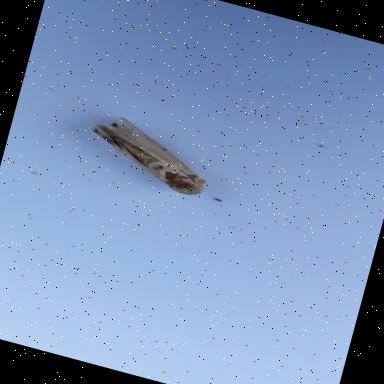abw: (68, 102, 226, 207)
